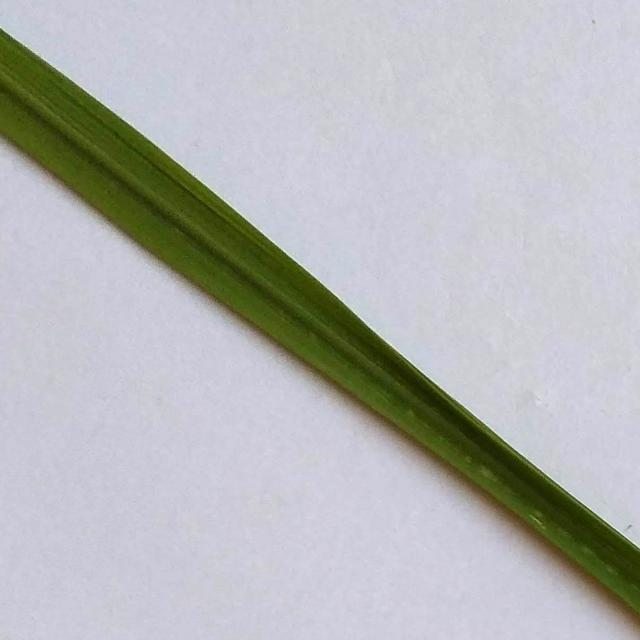Rice_Healthy: (0, 29, 639, 615)
